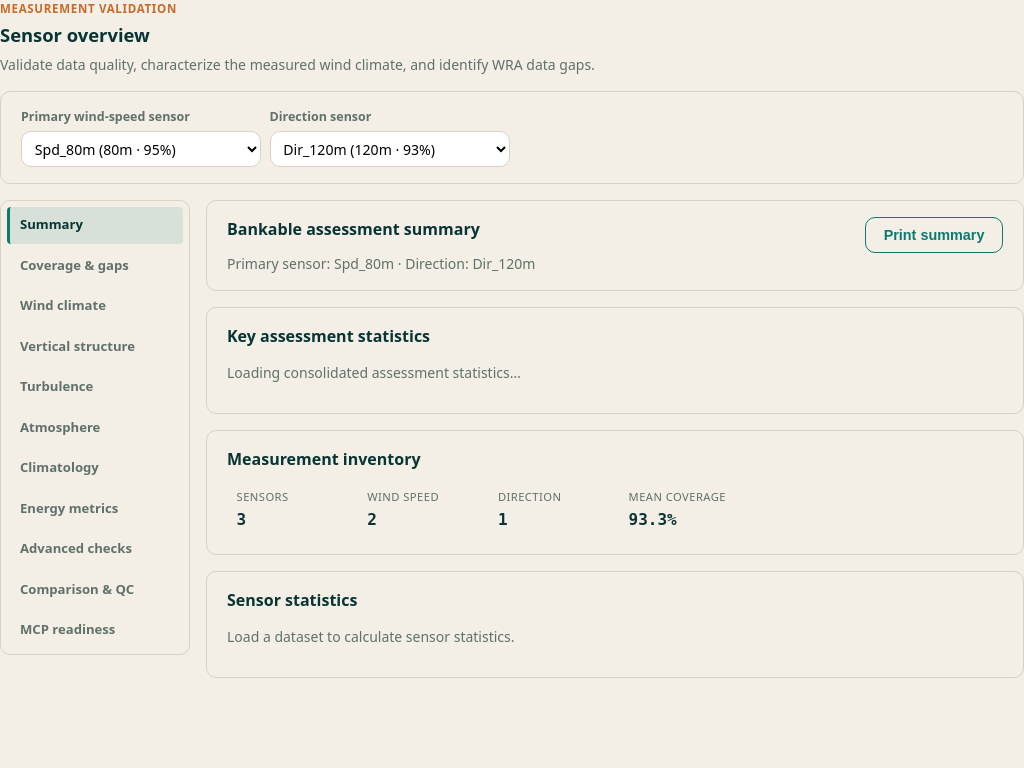
Sensor Overview › renders the P4 climatology and atmospheric availability surfaces
Click the button "Climatology" at (95, 468), box top-left (7, 449), bottom-right (183, 487)
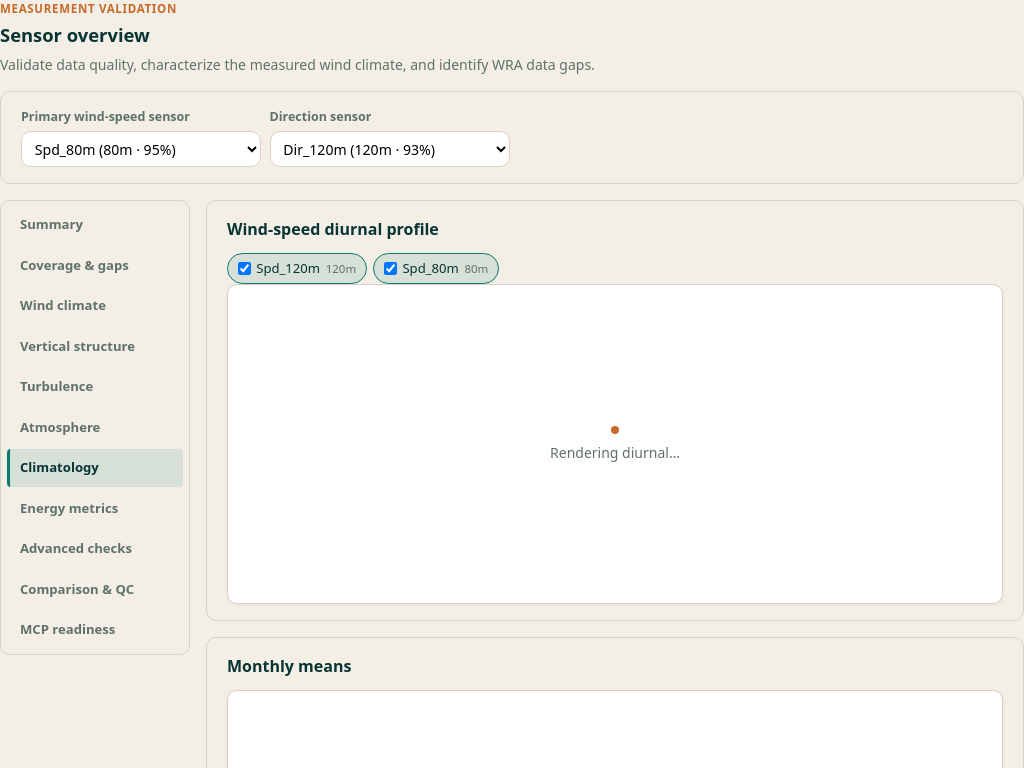
Click the button "Atmosphere" at (95, 428), box top-left (7, 409), bottom-right (183, 446)
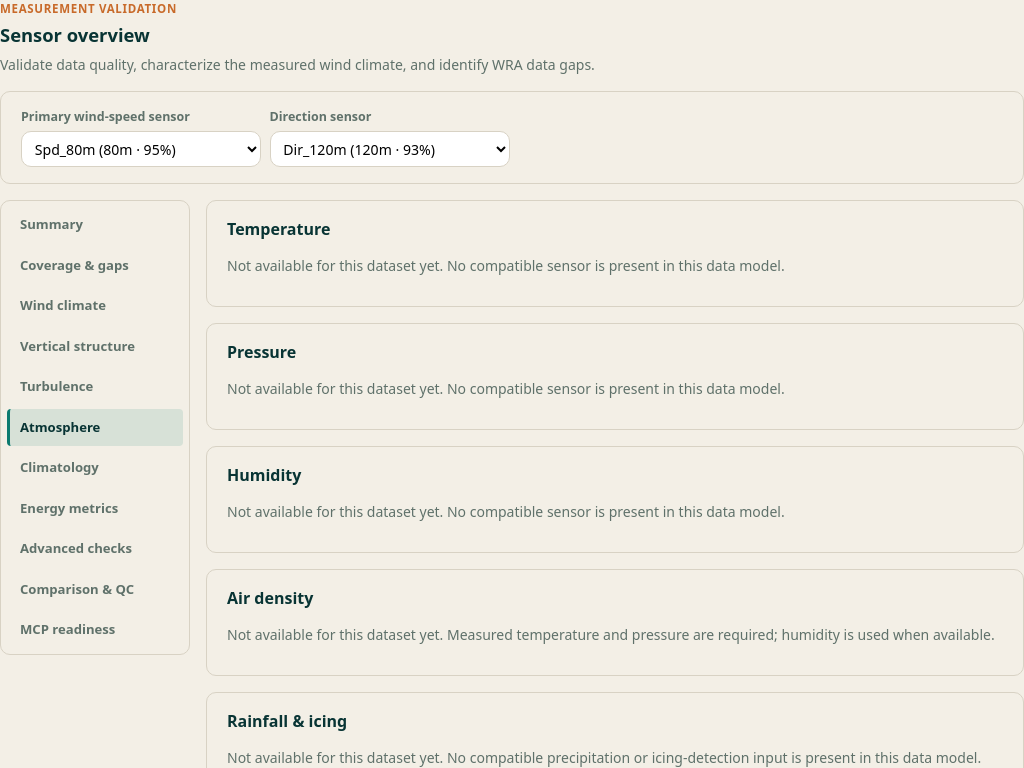
Check: the heading "Air density" is shown, box top-left (227, 587), bottom-right (313, 609)
Check: the heading "Rainfall & icing" is shown, box top-left (227, 710), bottom-right (347, 732)
